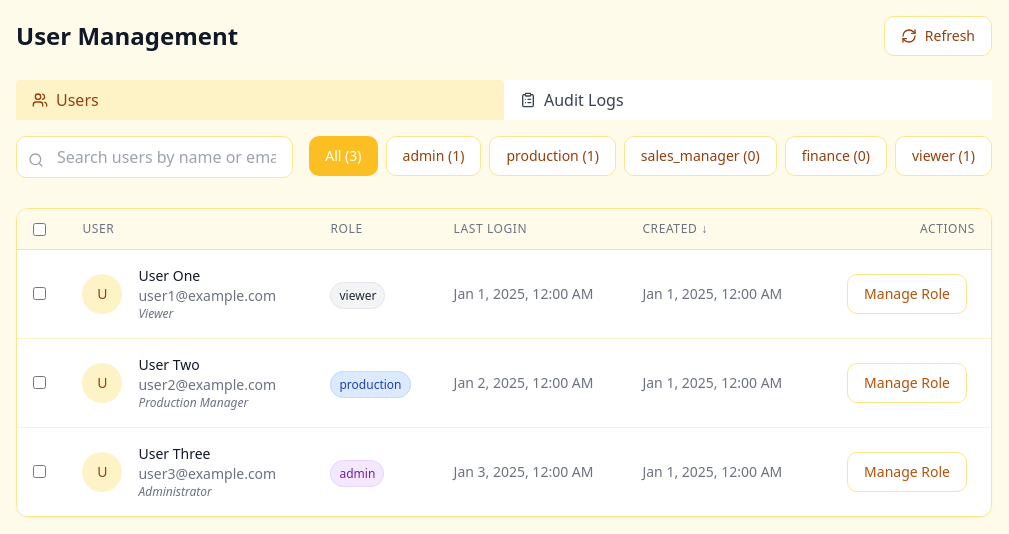
Test case: UserManagement › filters users by search query
The image size is (1009, 534).
Expected: the text "User One" is shown, [138, 266, 200, 285]
// Enter search query
Type "Two" into the field with placeholder "Search users by name or email..." at [155, 157], box [16, 136, 293, 178]
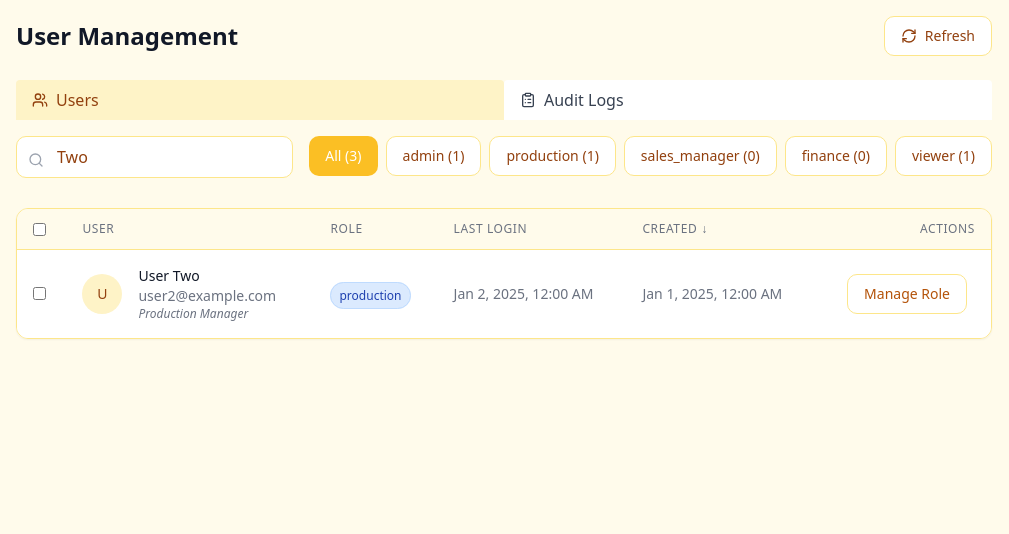
Expected: the text "User Two" is shown, [138, 266, 200, 285]
Expected: the text "User One" is gone
Expected: the text "User Three" is gone
